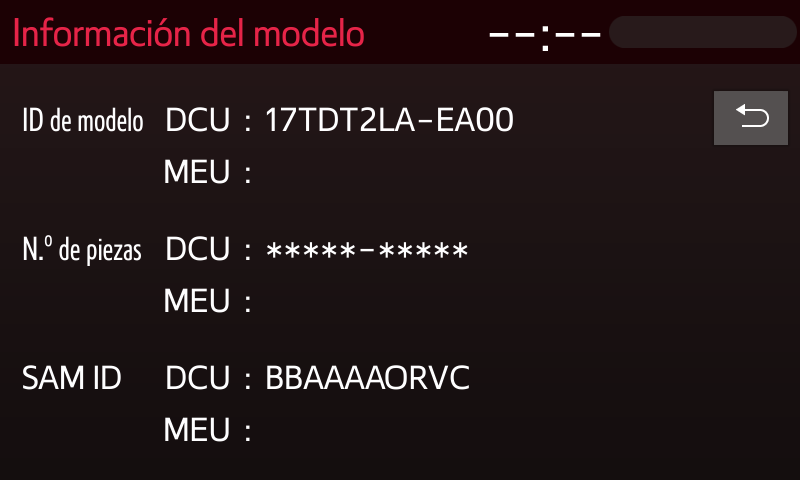touchPart: (709, 88, 791, 152)
untouchPart: (10, 98, 551, 454), (11, 11, 367, 50), (483, 11, 797, 54)
